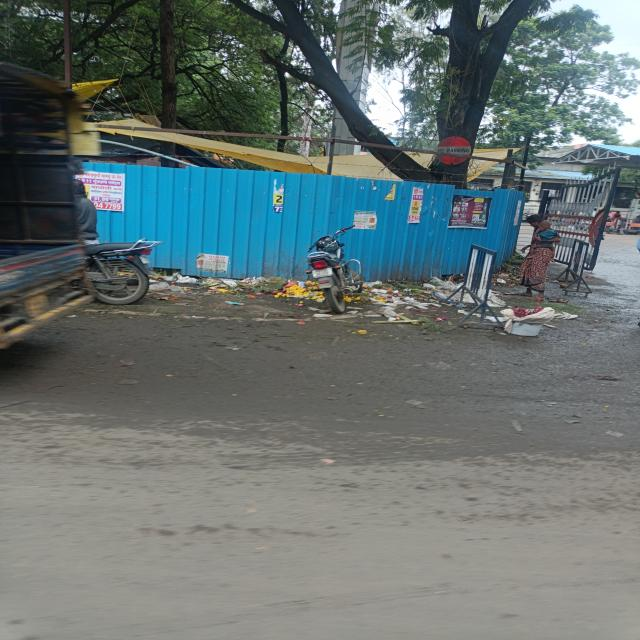garbage: (151, 274, 322, 302), (359, 279, 459, 324)
